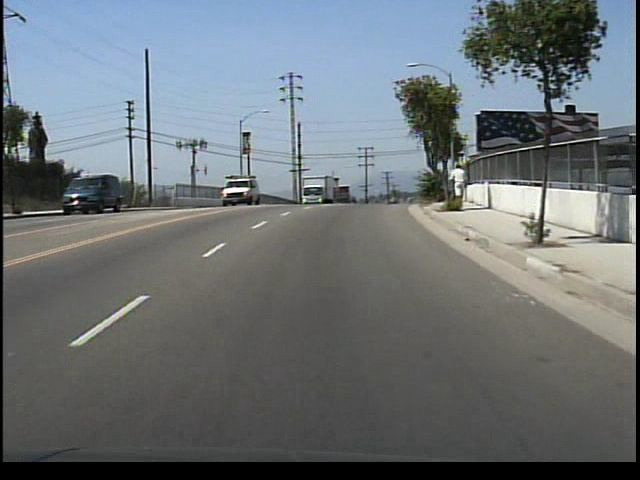person: (449, 161, 470, 197)
